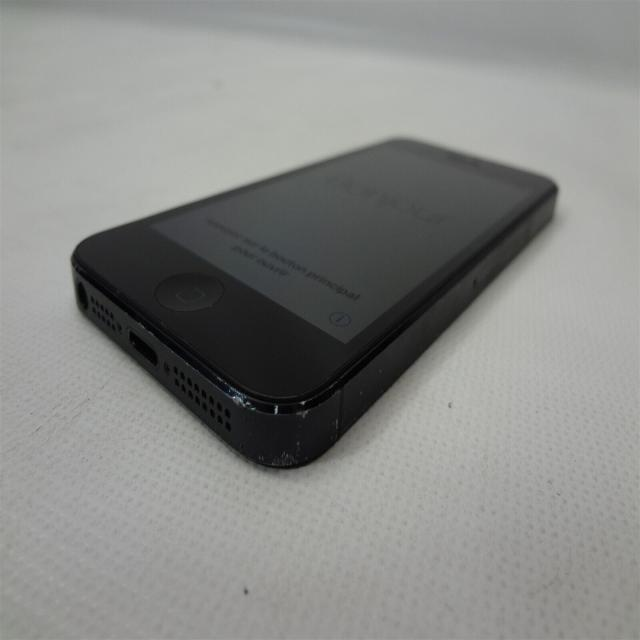Dents: (191, 359, 374, 505), (114, 308, 168, 358)
